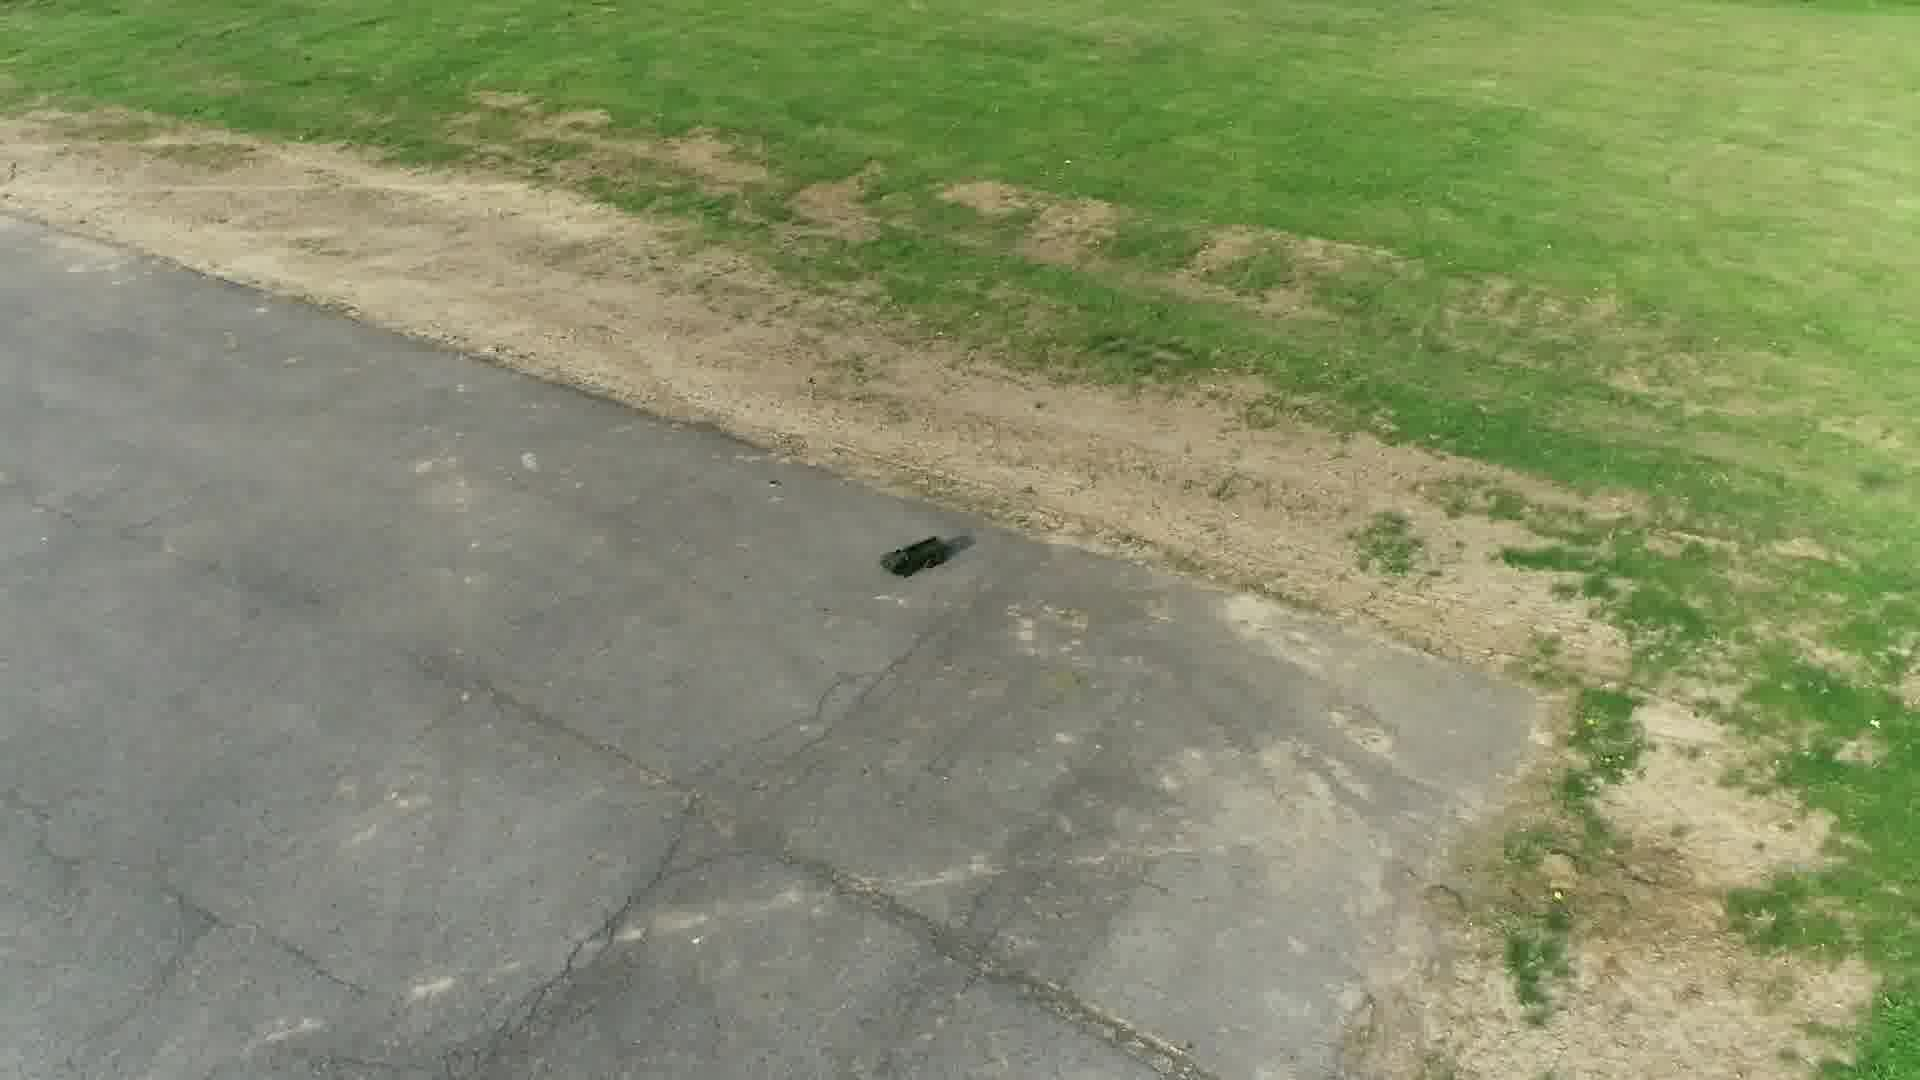transporter9: (876, 533, 953, 578)
